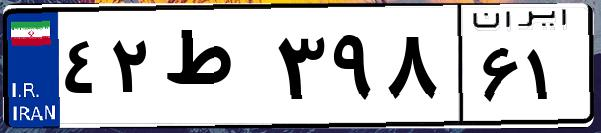1: (525, 38, 570, 115)
2: (110, 28, 158, 98)
3: (270, 28, 330, 110)
4: (57, 26, 110, 100)
6: (475, 38, 525, 113)
8: (385, 28, 445, 110)
9: (330, 28, 385, 110)
ط: (158, 20, 270, 120)
